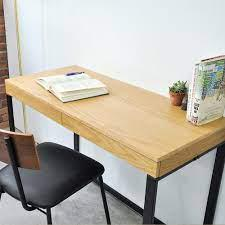desk: (10, 43, 223, 203)
